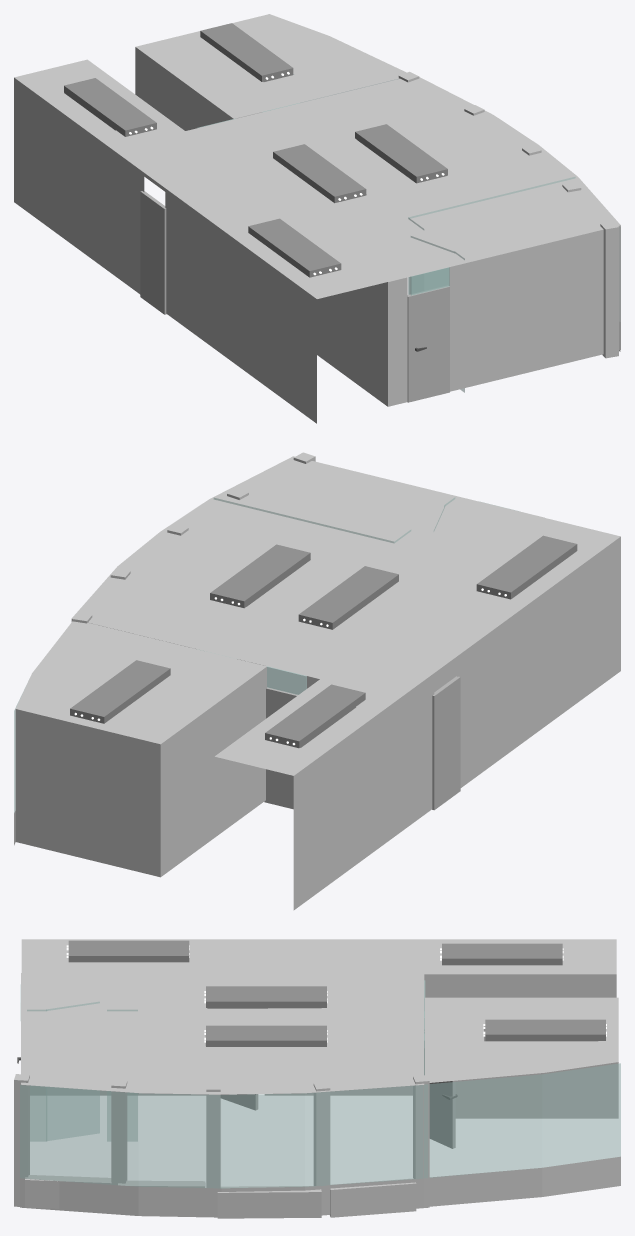
File: office.glb
3 renders of one model, top to bottom at view 1: azimuth 30°, elevation 25°; view 2: azimuth 150°, elevation 25°; view 3: azimuth 270°, elevation 25°, orthographic. The views are drawn at different scales.
Parts seen in each view (by area): view 1: Cube, Cube.022, Cube.021, Cube.009, Cube.023, Cube.035, Cube.032, Cube.034, Cube.002, Cube.033, Cube.005, Cube.016 (+1 smaller); view 2: Cube.022, Cube, Cube.021, Cube.023, Cube.035, Cube.032, Cube.033, Cube.002, Cube.034, Cube.011, Cube.013; view 3: Cube, Cube.008, Cube.022, Cube.021, Cube.020, Cube.001, Cube.019, Cube.016, Cube.029, Cube.033, Cube.035, Cube.002 (+12 smaller).
Part boxes in pixels (x1,y1,x2,y2): Cube: [183, 77, 620, 406]; Cube.022: [14, 59, 389, 423]; Cube.021: [135, 14, 406, 191]; Cube.009: [407, 285, 449, 402]; Cube.023: [140, 191, 166, 314]; Cube.035: [64, 78, 156, 136]; Cube.032: [355, 124, 447, 183]; Cube.034: [200, 23, 293, 81]; Cube.002: [273, 144, 366, 203]; Cube.033: [248, 218, 341, 277]; Cube.005: [600, 221, 618, 358]; Cube.016: [408, 177, 575, 392]; Cube.022: [215, 517, 620, 910]; Cube: [71, 456, 544, 691]; Cube.021: [15, 621, 266, 877]; Cube.023: [432, 676, 460, 810]; Cube.035: [265, 684, 365, 748]; Cube.032: [210, 544, 310, 608]; Cube.033: [476, 535, 577, 599]; Cube.002: [298, 566, 398, 629]; Cube.034: [70, 660, 170, 723]; Cube.011: [264, 687, 298, 809]; Cube.013: [266, 666, 306, 694]; Cube: [21, 973, 424, 1095]; Cube.008: [20, 1085, 423, 1188]; Cube.022: [21, 939, 616, 998]; Cube.021: [425, 997, 618, 1118]; Cube.020: [424, 1063, 620, 1178]; Cube.001: [20, 1178, 423, 1217]; Cube.019: [424, 1156, 620, 1207]; Cube.016: [27, 1001, 137, 1141]; Cube.029: [217, 1186, 321, 1218]; Cube.033: [68, 940, 189, 962]; Cube.035: [442, 943, 562, 965]; Cube.002: [206, 986, 326, 1008].
Bounding box in the file's own units: 9.5 × 3.86 × 15.56.
